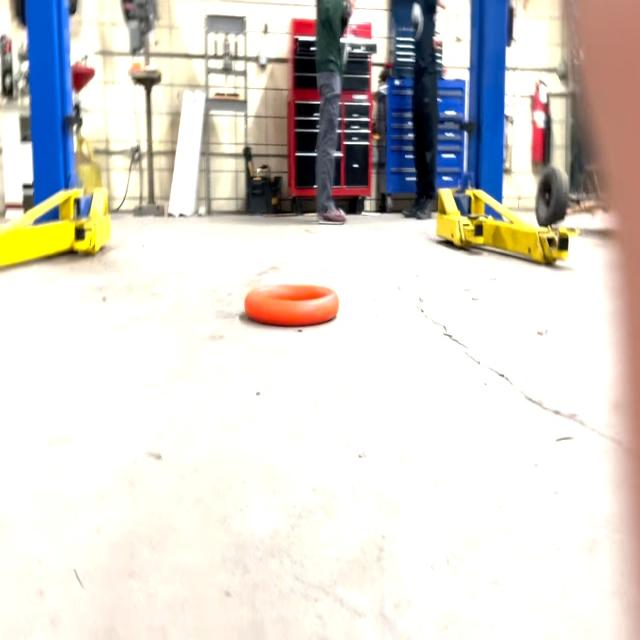note: (244, 278, 342, 326)
